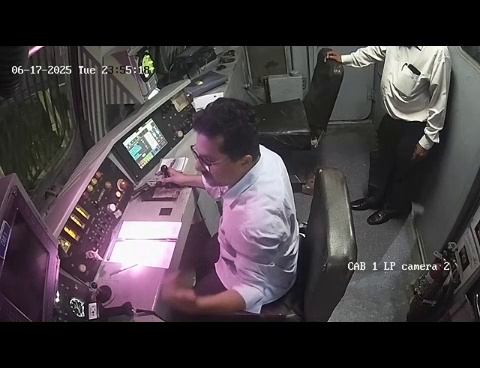horn_inactive: (84, 272, 124, 310)
